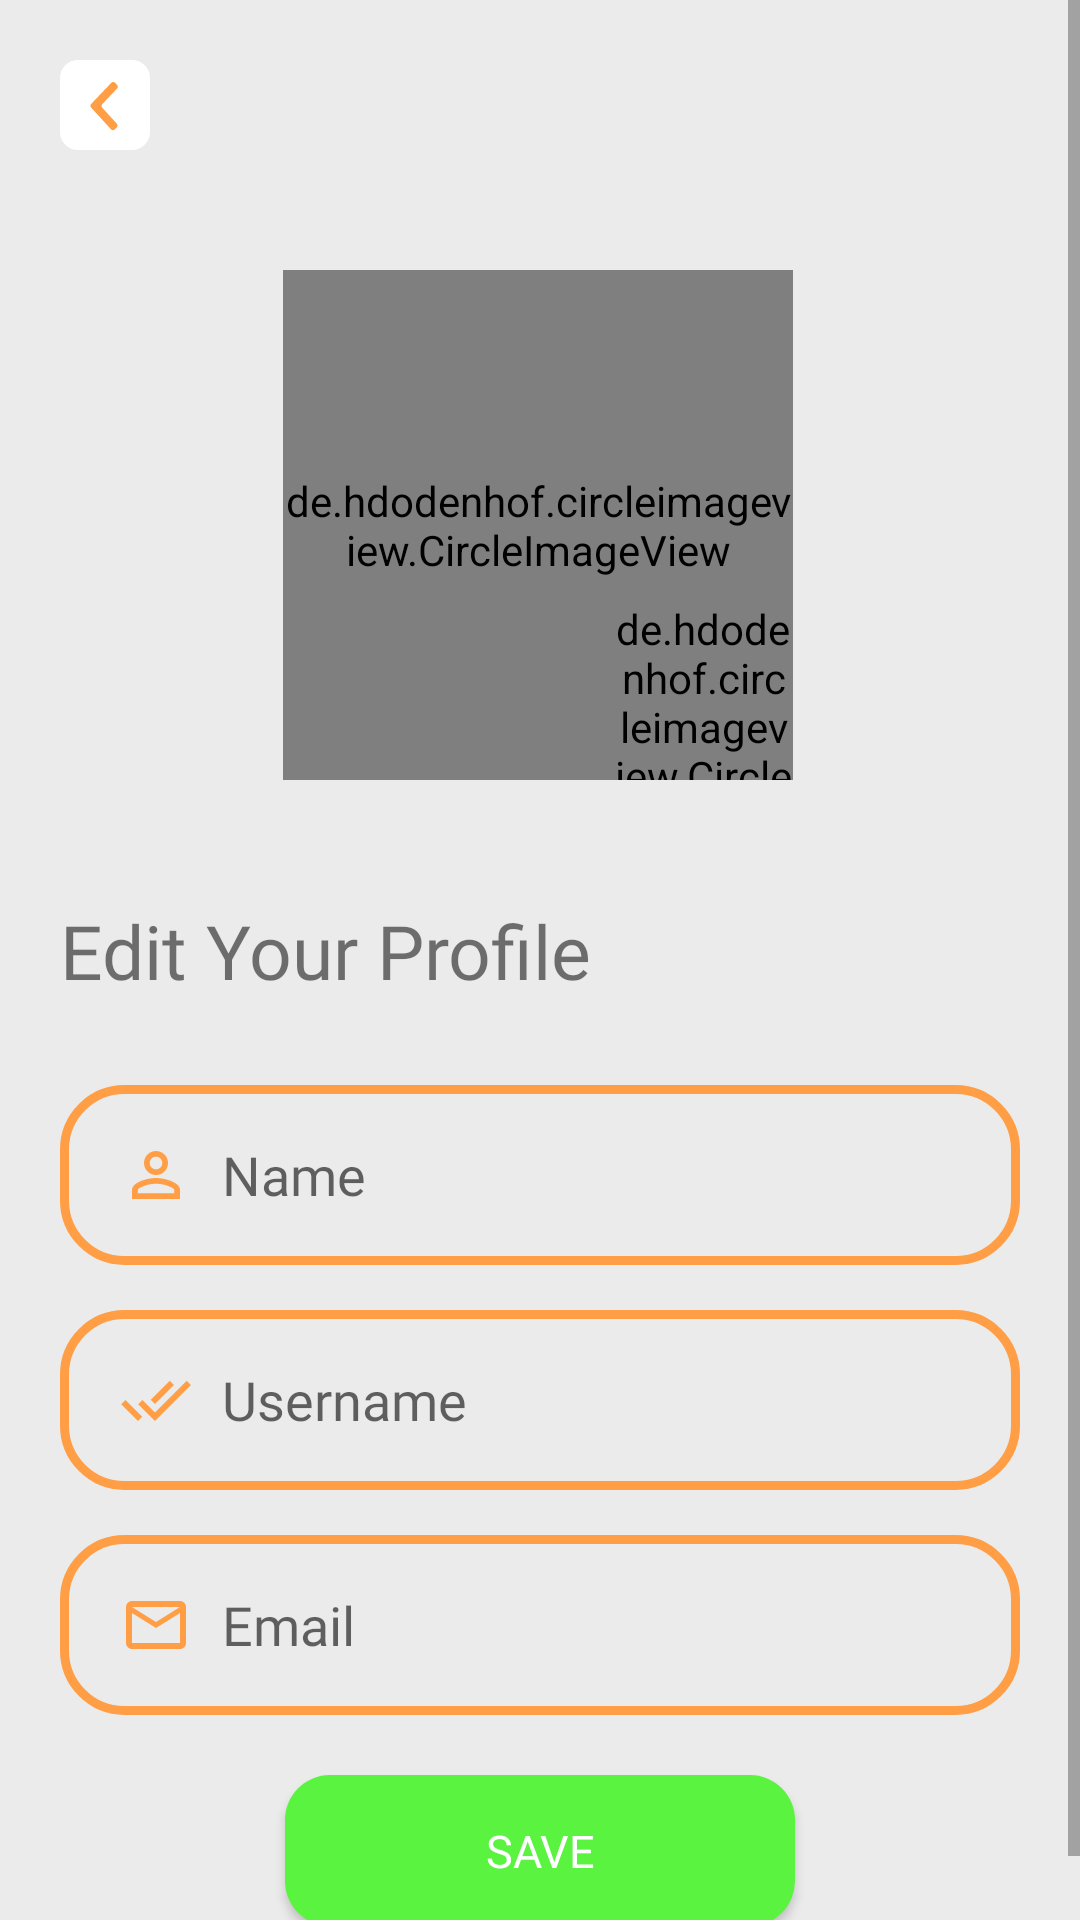

Icons on this 1080x1920 Android screen, each with its box as (x1, y1, x2, y2):
back: (60, 60, 150, 150)
